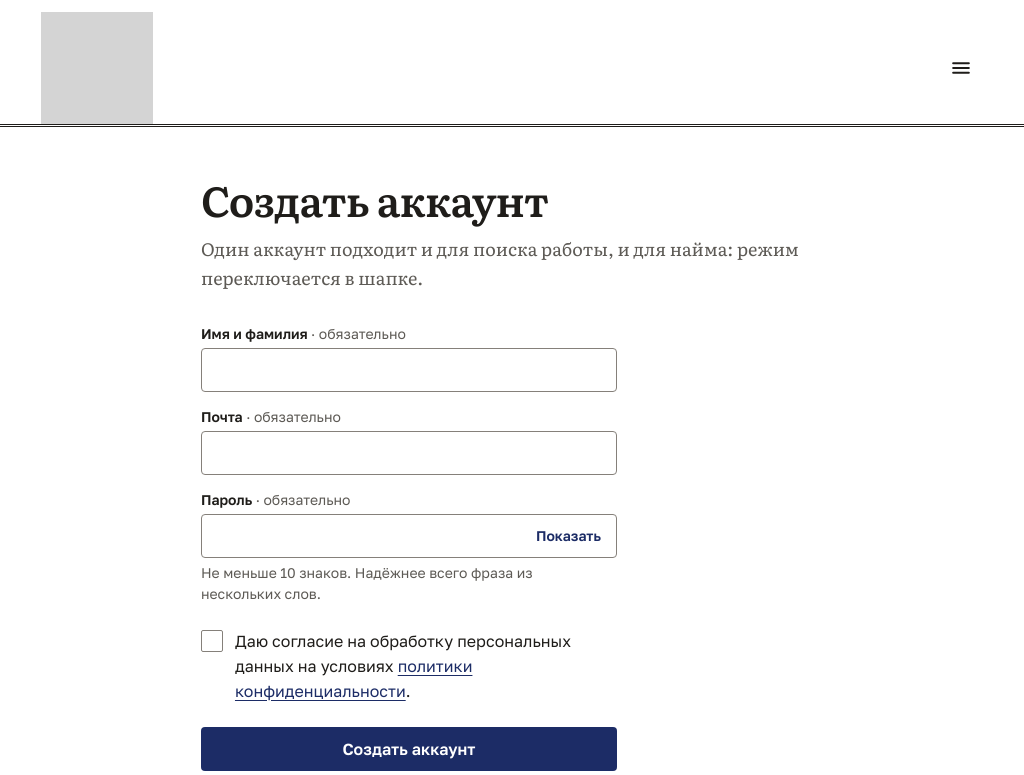
Test case: RegisterPage › registers and tells the person to check the mail
Type "  Анна Смирнова " into the field labelled "Имя и фамилия · обязательно" at (409, 370), box [201,348,617,392]
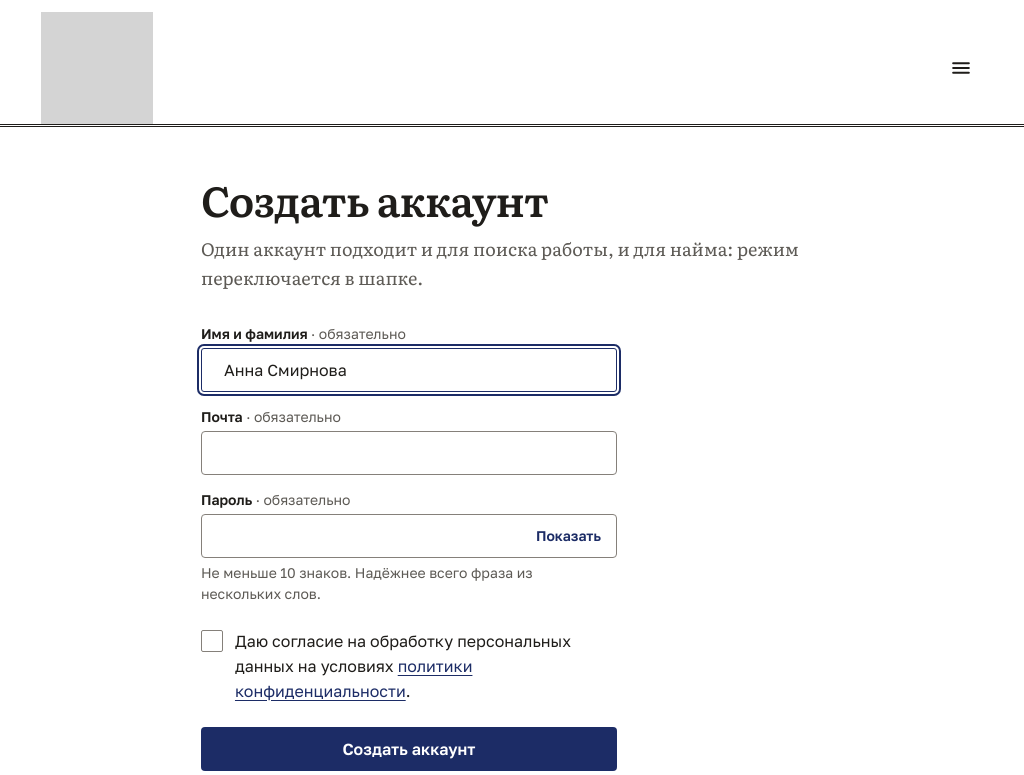
Type " anna@example.ru " into the field labelled "Почта · обязательно" at (409, 453), box [201,431,617,475]
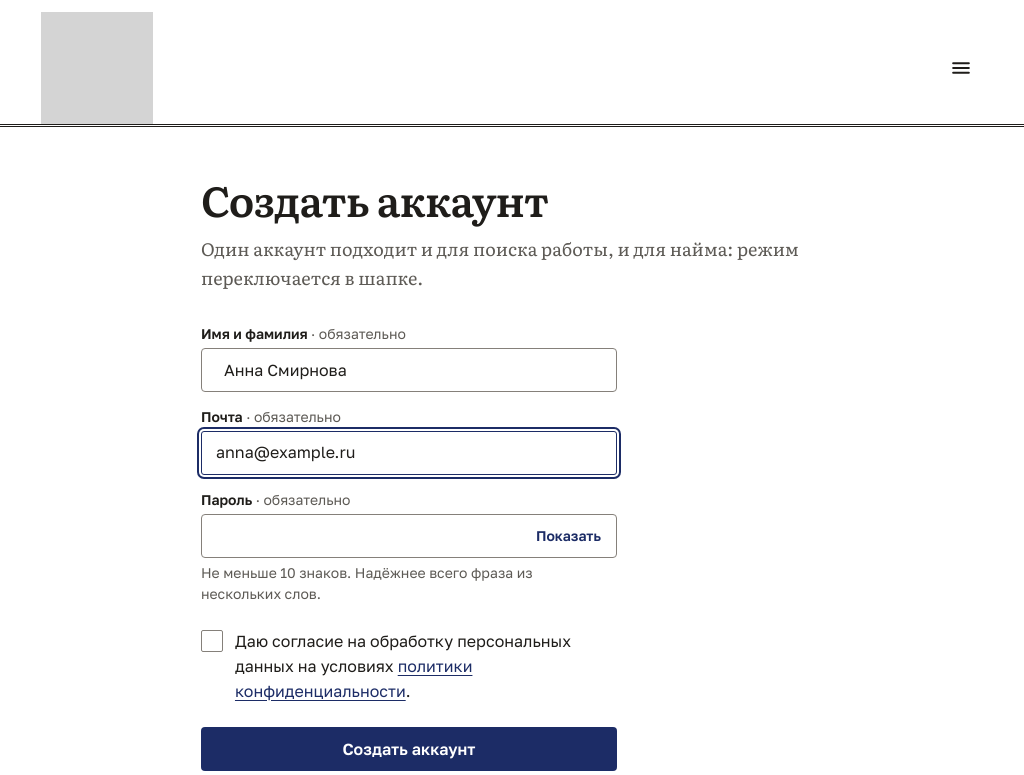
Type "кофе на рассвете" into the password field labelled "Пароль · обязательно" at (409, 536), box [201,514,617,558]
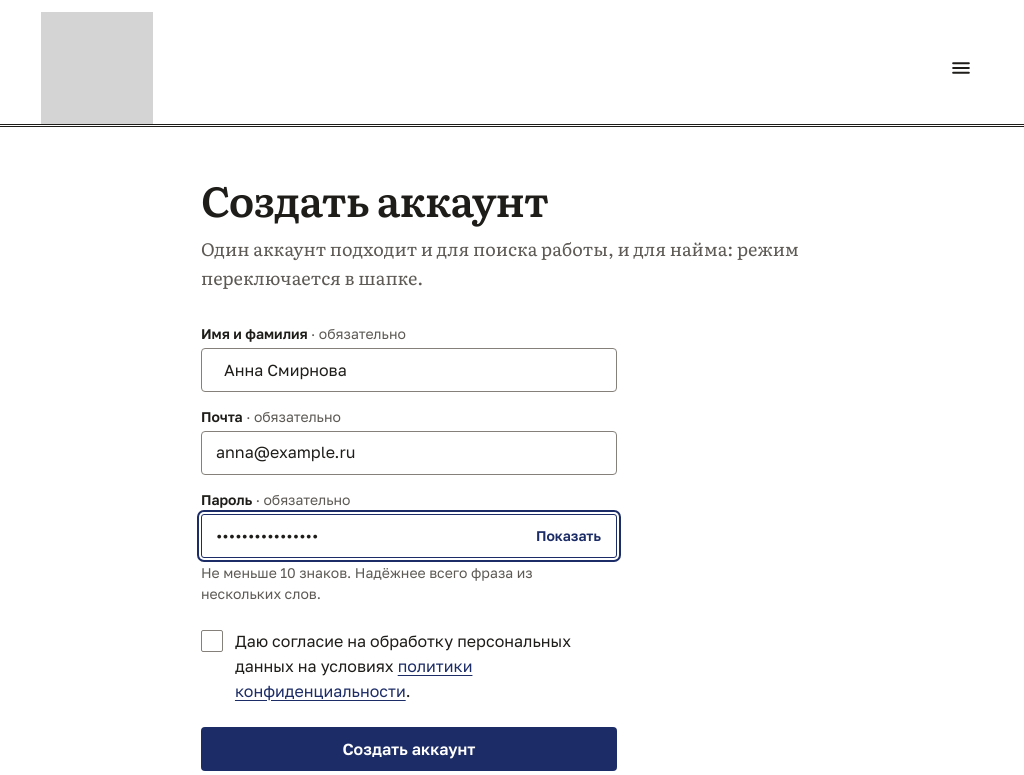
Click the checkbox at (212, 641), box [201,630,223,652]
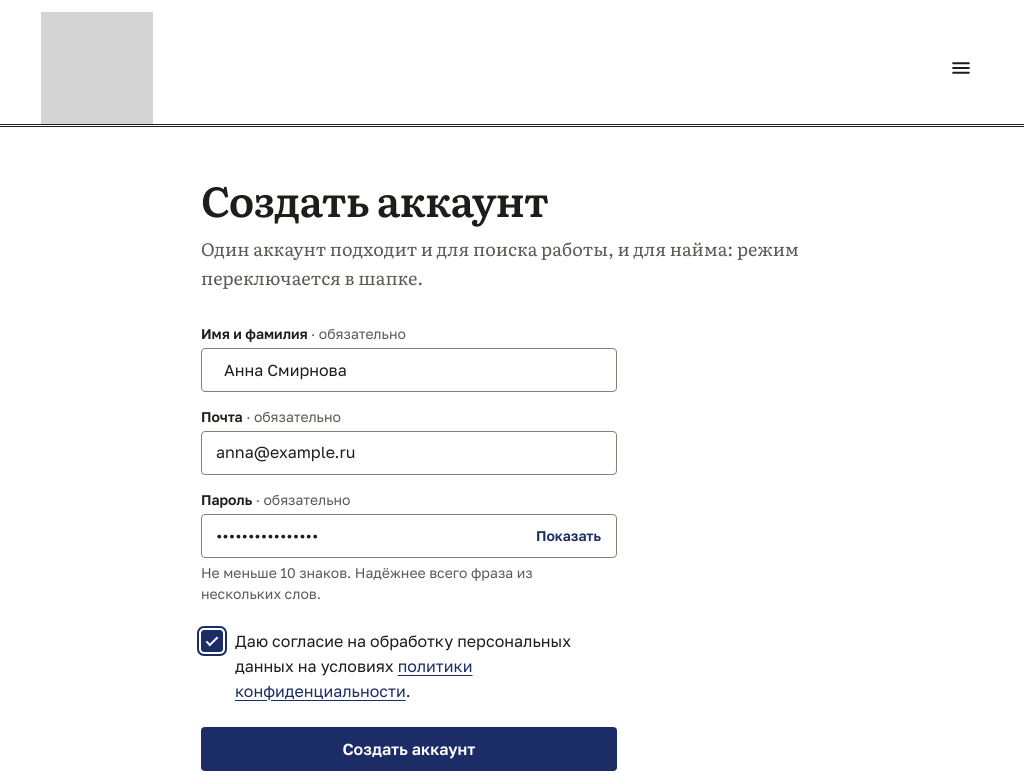
Click the button "Создать аккаунт" at (409, 749), box [201,727,617,771]
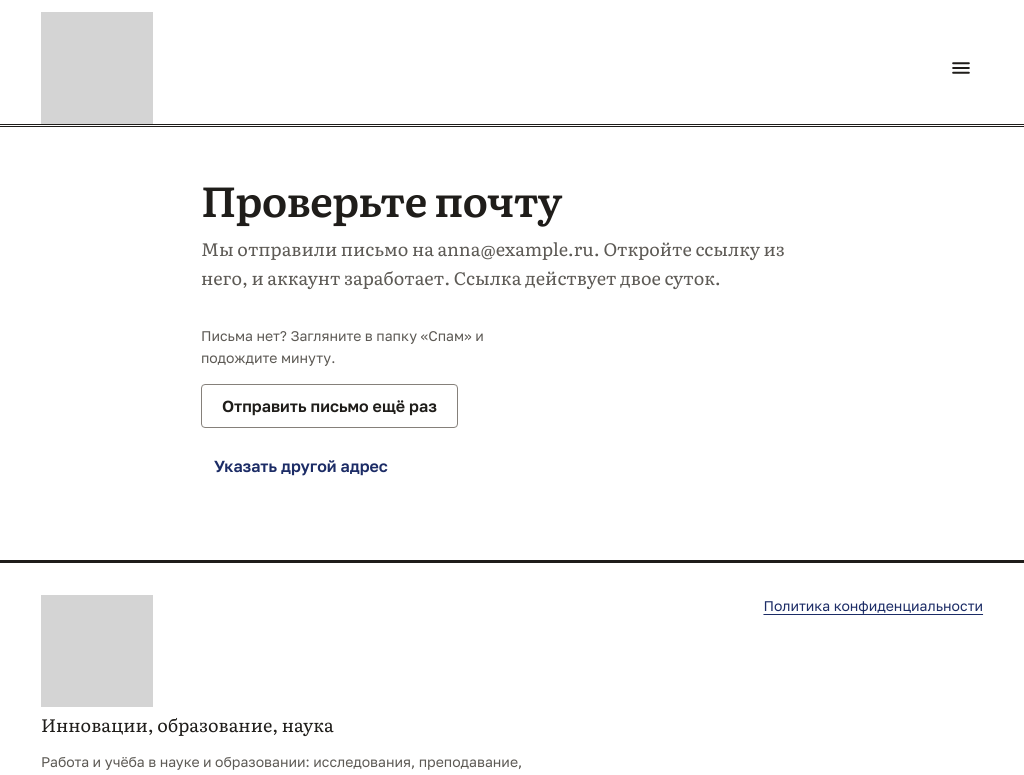
expect the heading "Проверьте почту" is shown: met, box [201,168,562,230]
expect the text "Мы отправили письмо на anna@example.ru" is shown: met, box [201,235,785,291]
